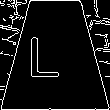L_N: (39, 30, 71, 80)
